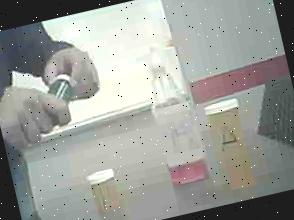Bottle A: (200, 93, 268, 199)
Bottle B: (80, 160, 137, 220)
Bottle C: (33, 65, 86, 126)
hazard: (125, 32, 216, 200)
